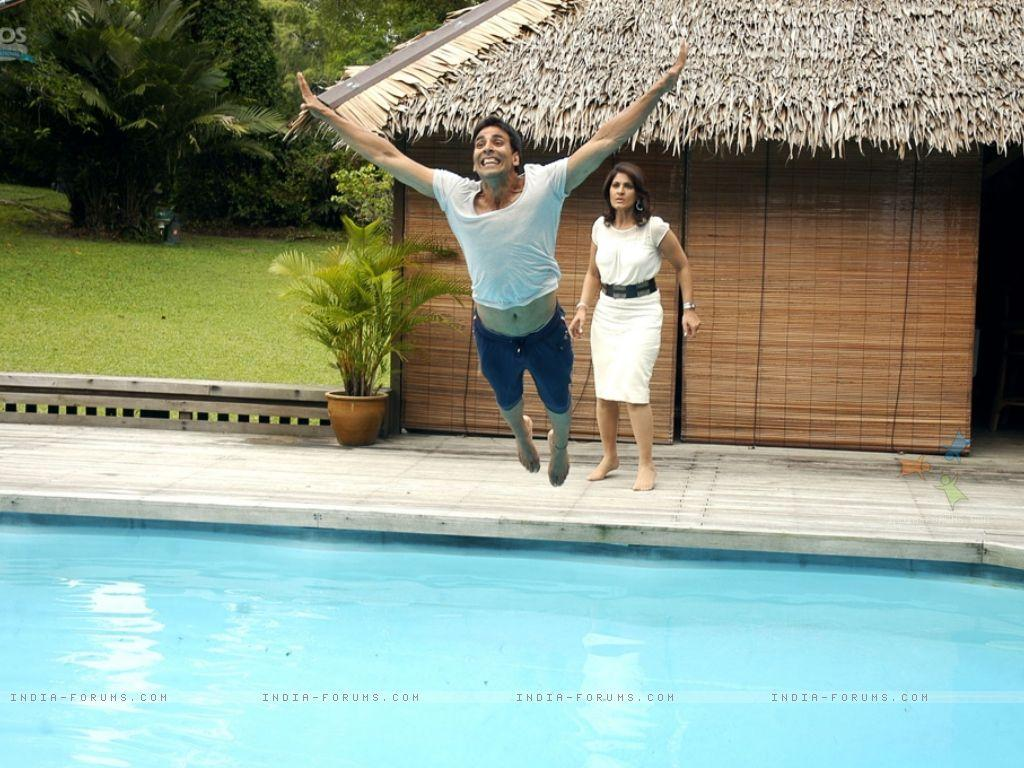face: (473, 125, 512, 176), (608, 173, 636, 209)
